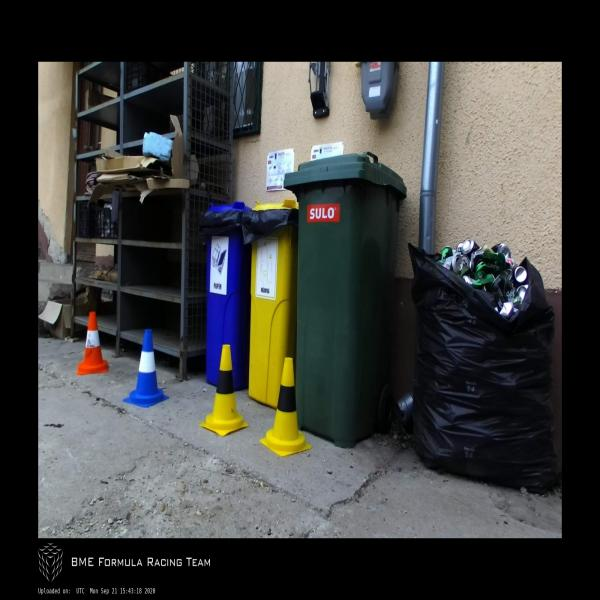blue_cone: (123, 329, 169, 408)
orange_cone: (77, 312, 108, 374)
yellow_cone: (260, 358, 312, 456), (200, 345, 248, 436)
